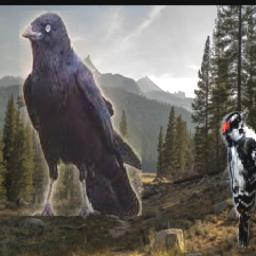Crow: (21, 11, 143, 216)
Woodpecker: (219, 108, 256, 249)
